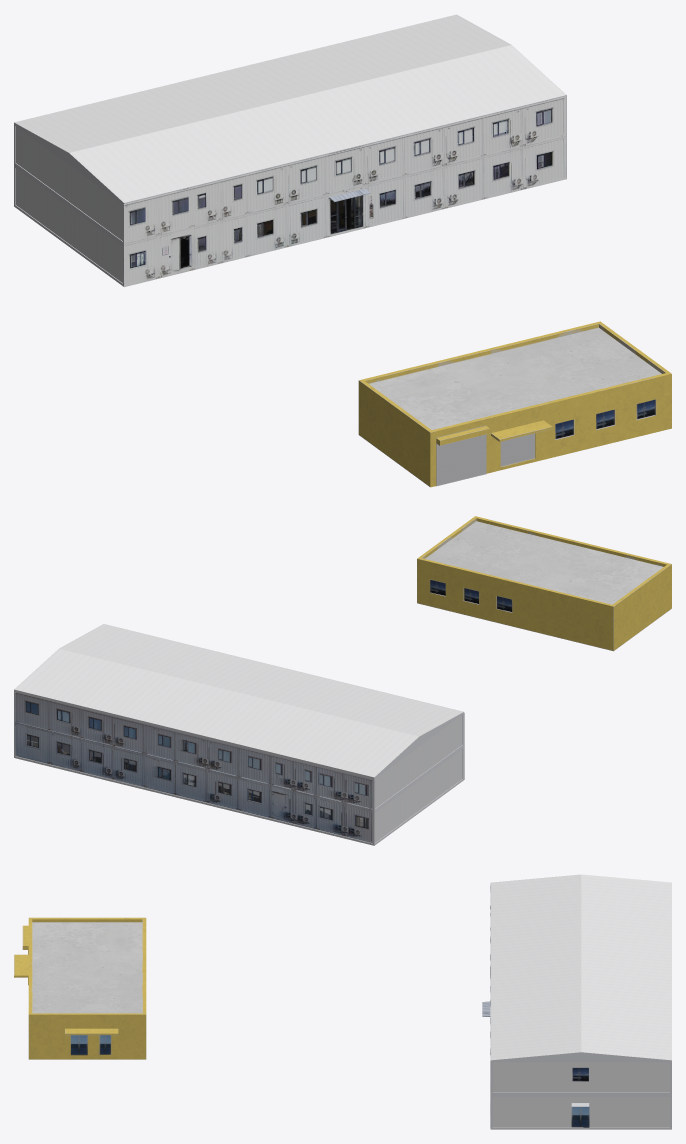
3 views of the same model, one above another, from view 1: azimuth 30°, elevation 25°; view 2: azimuth 150°, elevation 25°; view 3: azimuth 270°, elevation 25° (orthographic). The views are drawn at different scales.
Parts seen in each view (by area): view 1: Mesh1_Group1_Model, 立方体; view 2: Mesh1_Group1_Model; view 3: Mesh1_Group1_Model.
Boxes of the visible parts, bbox=[...] form: Mesh1_Group1_Model: bbox=[14, 14, 671, 487]; 立方体: bbox=[123, 96, 566, 286]; Mesh1_Group1_Model: bbox=[14, 516, 671, 845]; Mesh1_Group1_Model: bbox=[14, 874, 671, 1129].
Size of the model in its own units: 40.43 by 8.17 by 62.41.
2 materials, 2 textured.
